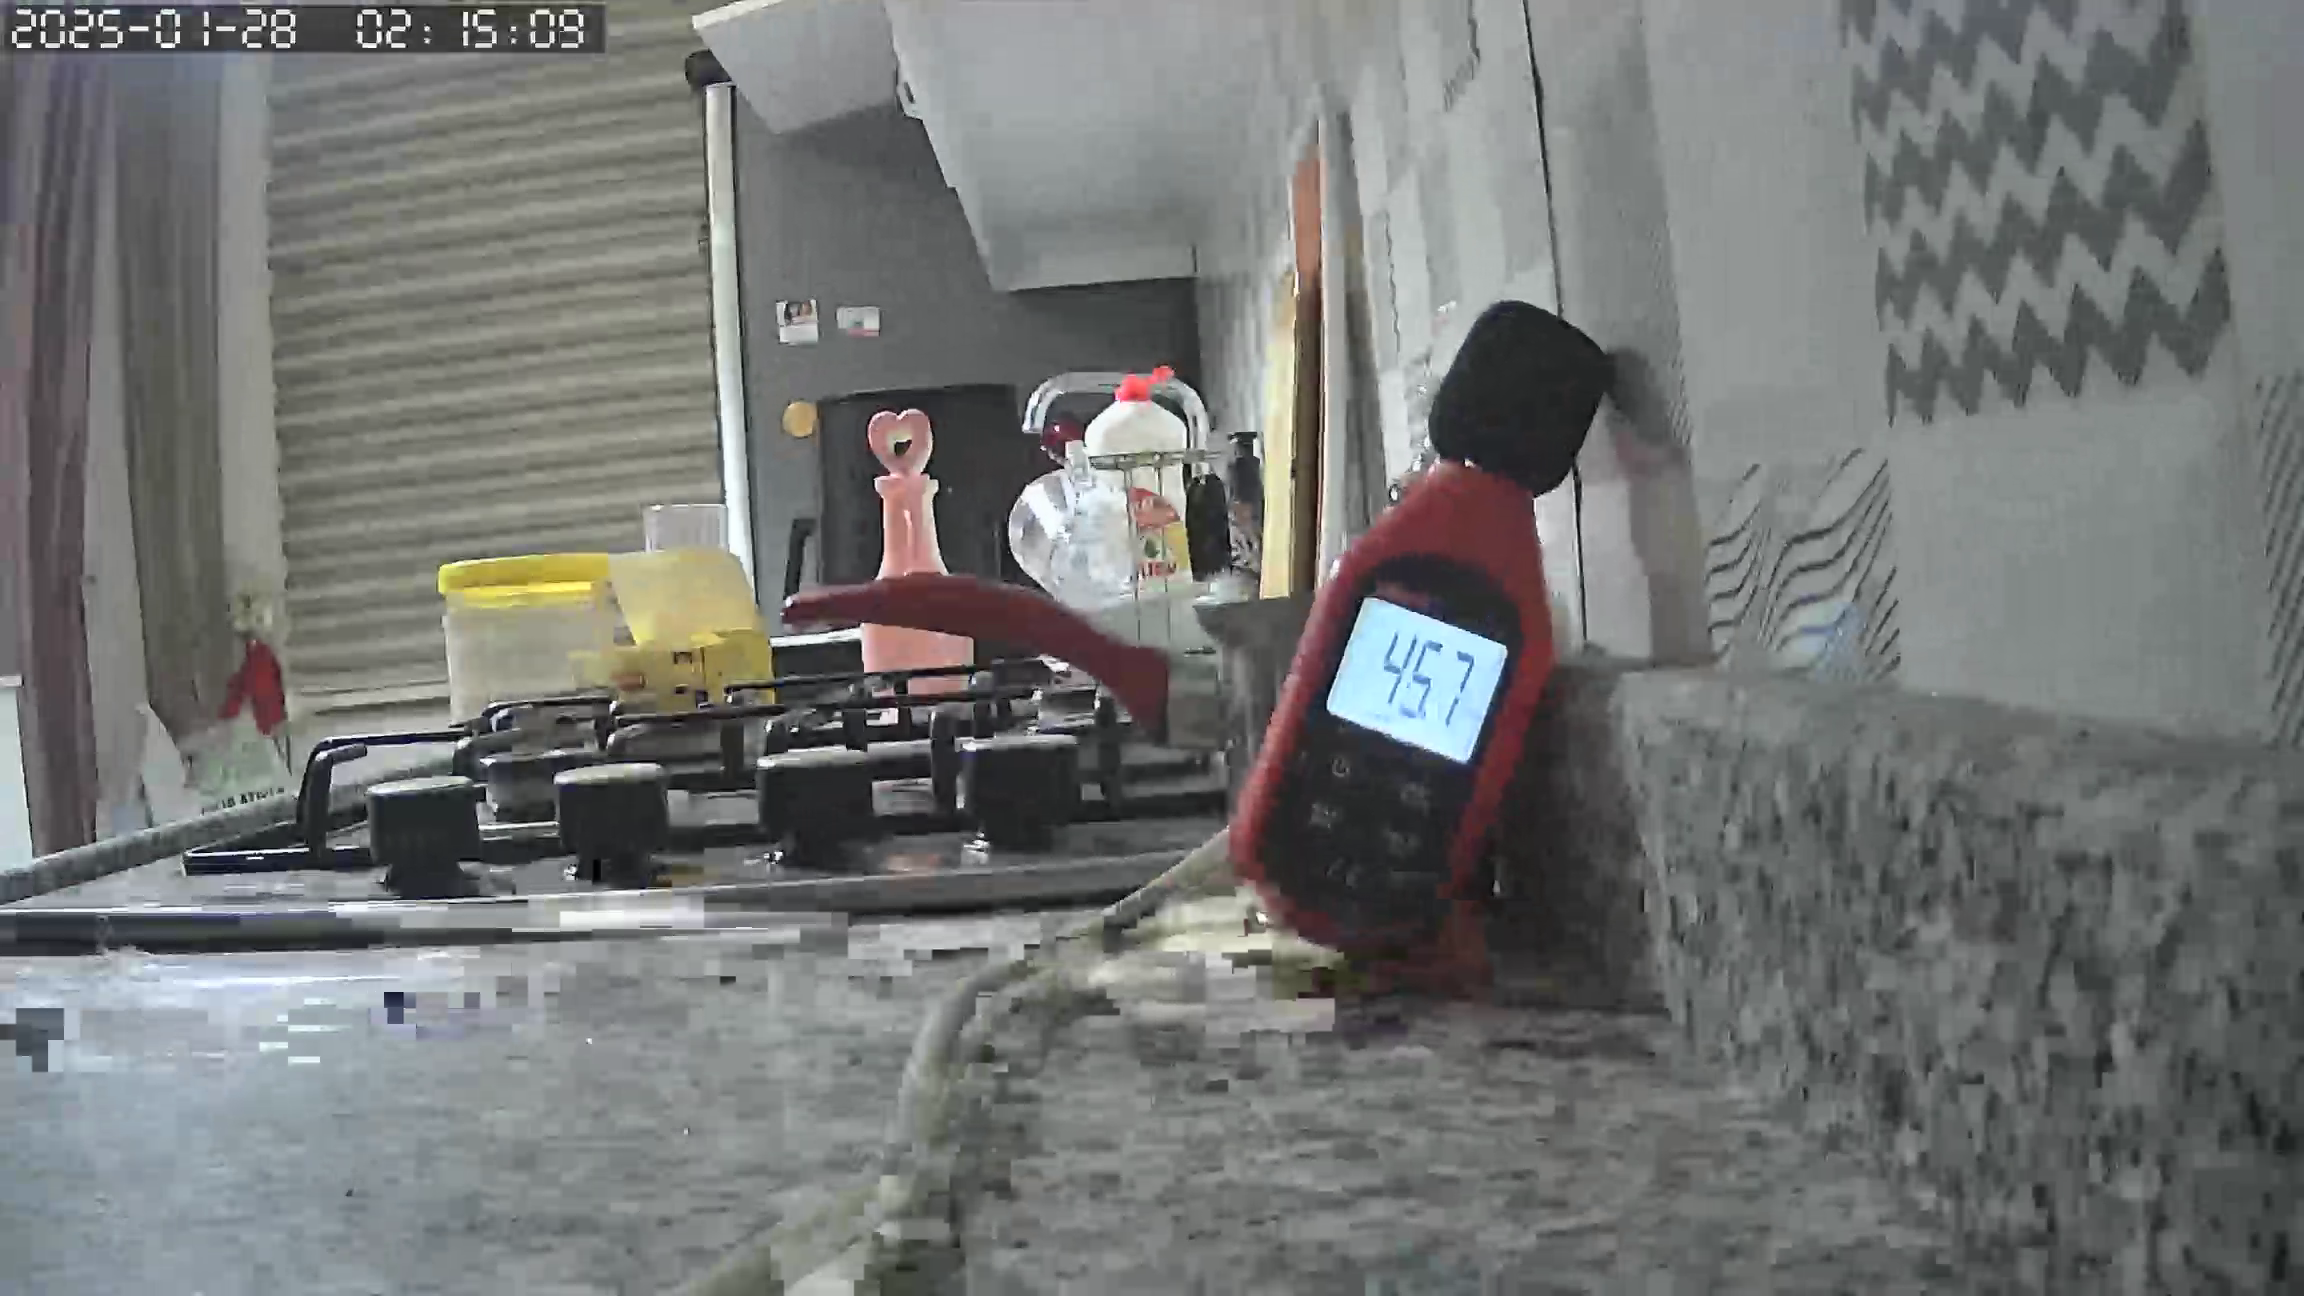screen: (1318, 590, 1506, 771)
